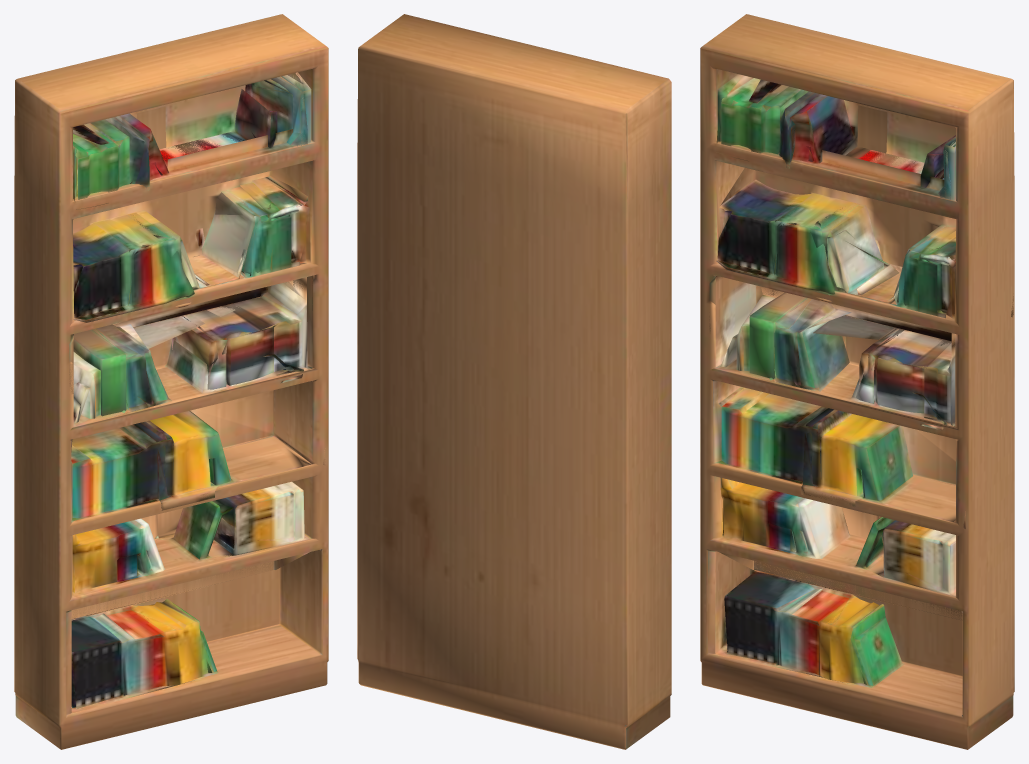
The model's file is bookshelf.glb.
3 renders of one model, left to right at view 1: azimuth 30°, elevation 25°; view 2: azimuth 150°, elevation 25°; view 3: azimuth 330°, elevation 25°, orthographic.
Bounding box in the file's own units: 0.8415 × 1.91 × 0.2505.
1 material, 1 textured.
